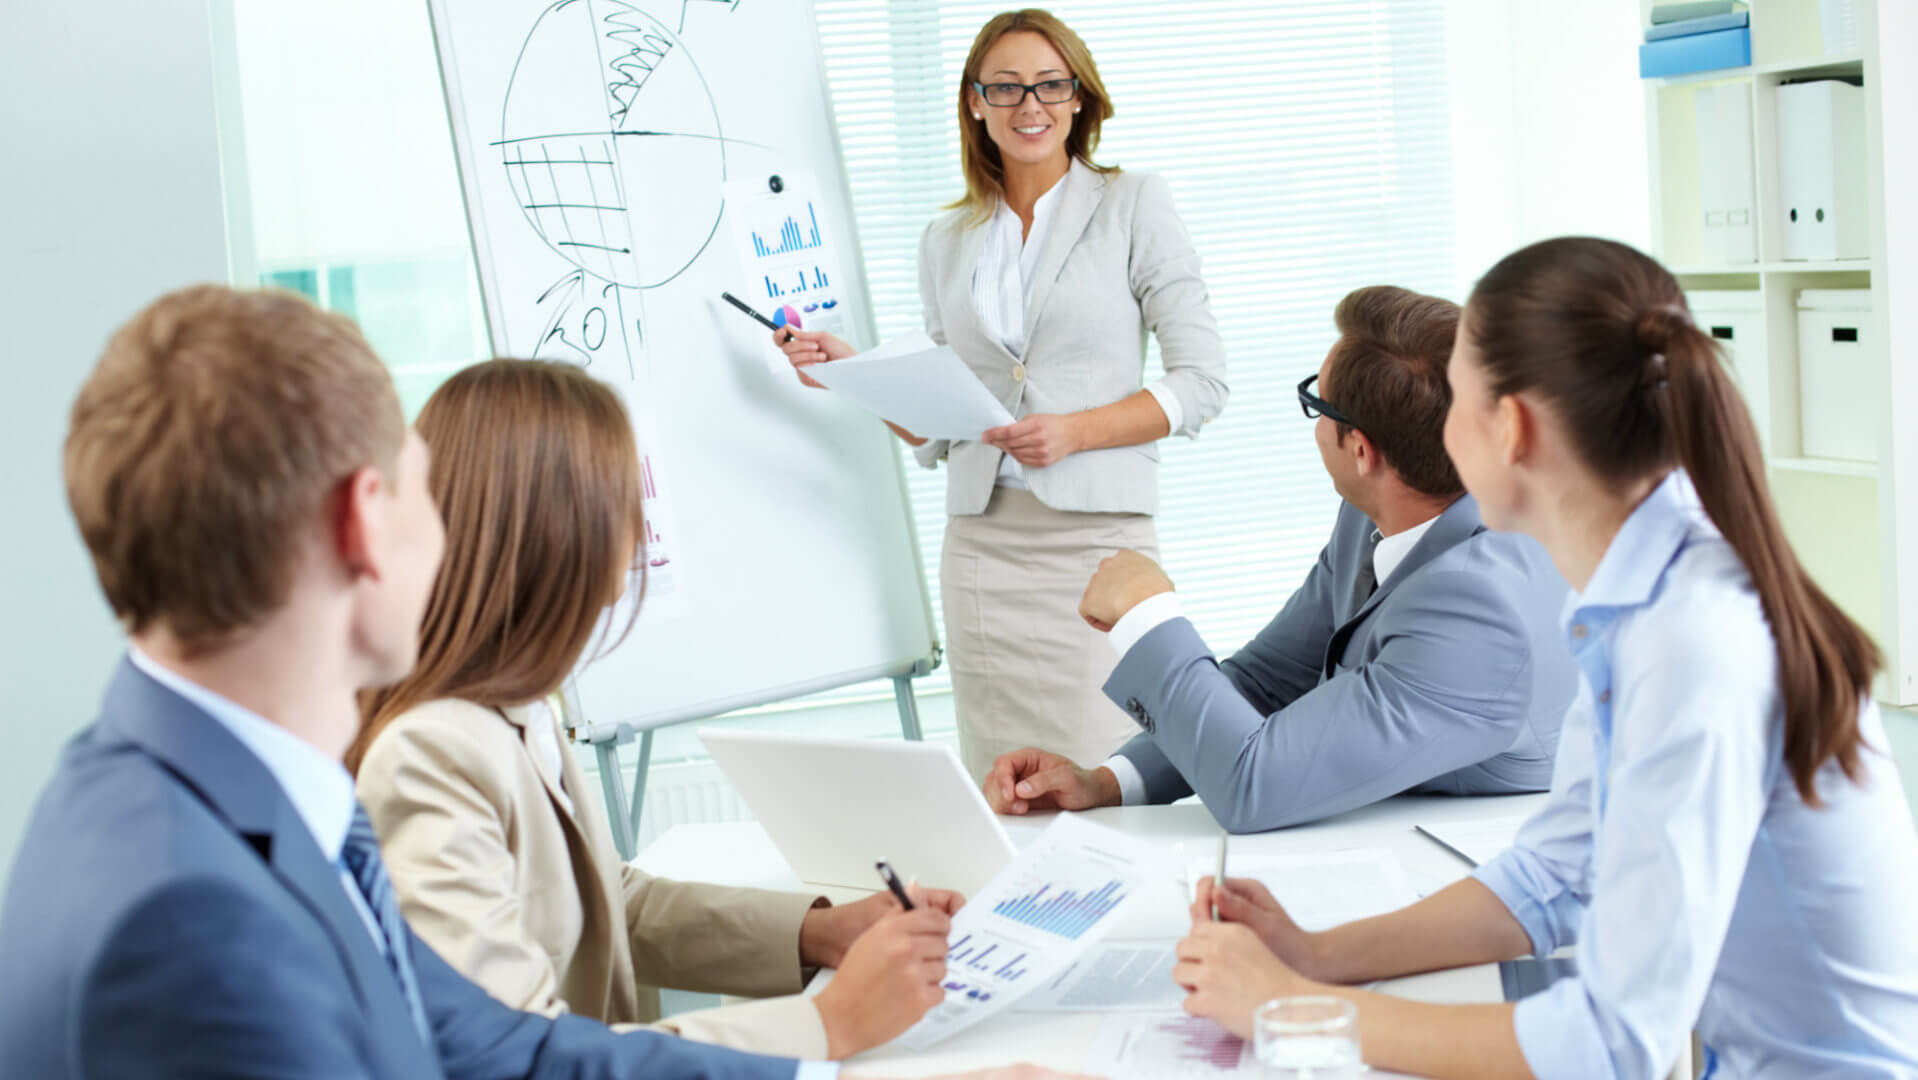Person: (1428, 278, 1882, 1055), (36, 301, 482, 1047), (928, 70, 1228, 839), (474, 385, 836, 955)
